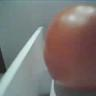tomato: (42, 4, 96, 96)
